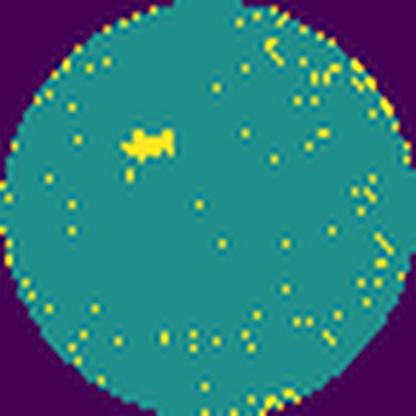Loc: (122, 126, 178, 161)
